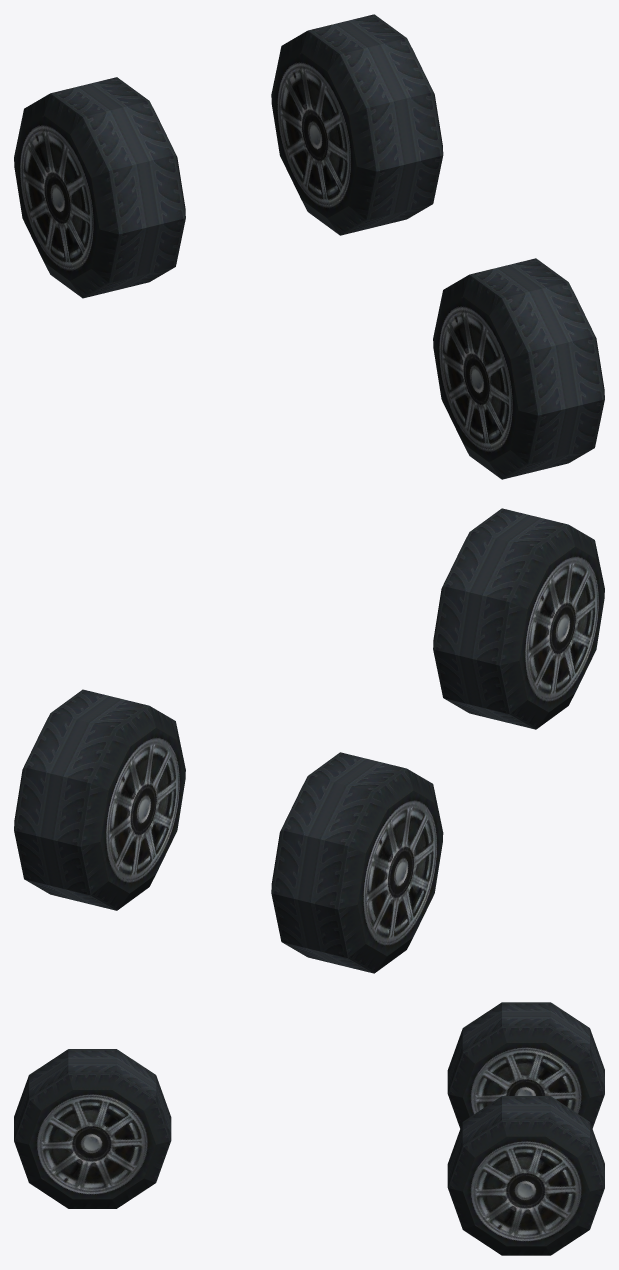
Rendered from Kart 6 Wheels.glb.
The picture shows the model from 3 angles, top to bottom: view 1: azimuth 30°, elevation 25°; view 2: azimuth 150°, elevation 25°; view 3: azimuth 270°, elevation 25°; orthographic projection. The views are drawn at different scales.
Visible parts, largest first — view 1: left_wheel, front_wheel, right_wheel; view 2: right_wheel, front_wheel, left_wheel; view 3: front_wheel, left_wheel, right_wheel.
Boxes of the visible parts, left/top/right/bottom form: left_wheel: left=271, top=14, right=443, bottom=235; front_wheel: left=433, top=258, right=604, bottom=479; right_wheel: left=14, top=77, right=185, bottom=298; right_wheel: left=271, top=752, right=443, bottom=973; front_wheel: left=433, top=508, right=604, bottom=729; left_wheel: left=14, top=689, right=185, bottom=910; front_wheel: left=14, top=1049, right=171, bottom=1208; left_wheel: left=447, top=1096, right=604, bottom=1255; right_wheel: left=447, top=1002, right=604, bottom=1128.
Size of the model in its own units: 2 by 1.01 by 4.
Materials: 1 (1 with a texture image).
